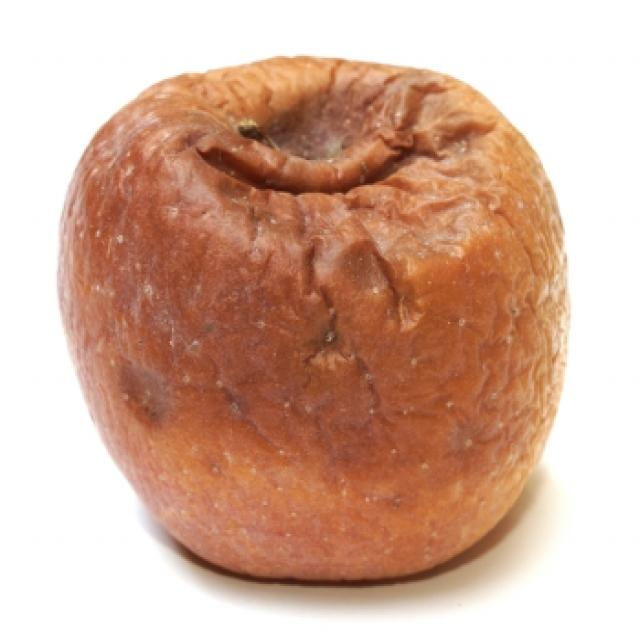rotten_apple: (56, 62, 566, 578)
